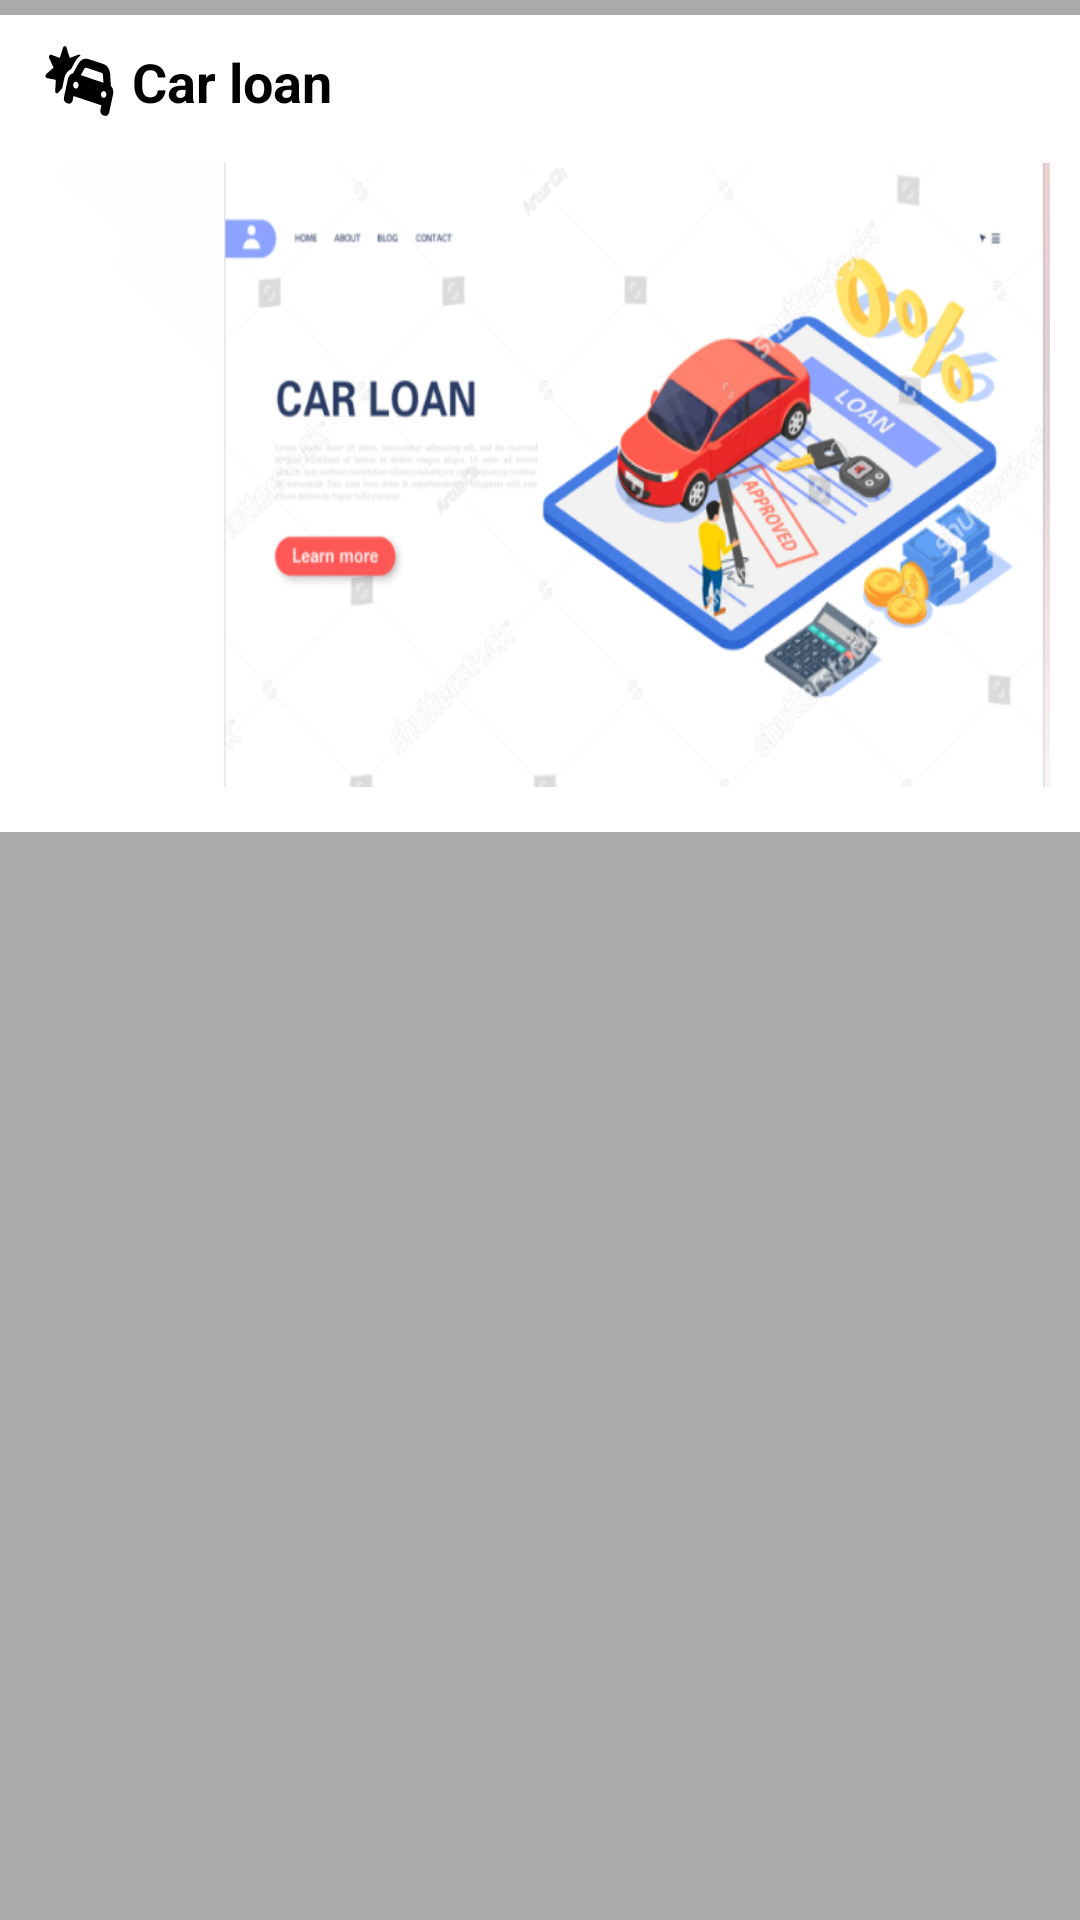

Named icons in this screenshot (1080×1920) and their centers, (x=x, y=y):
car burst: (x=79, y=81)
